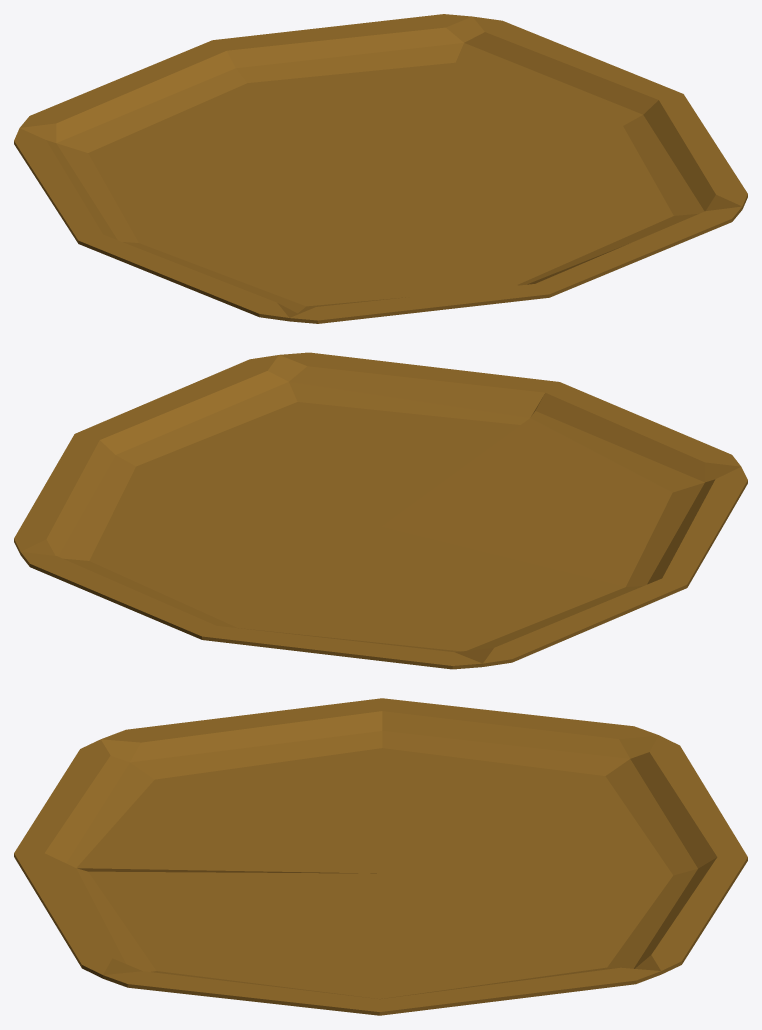
File: Plate.glb
3 views of the same model, one above another, from view 1: azimuth 30°, elevation 25°; view 2: azimuth 150°, elevation 25°; view 3: azimuth 270°, elevation 25° (orthographic). The views are drawn at different scales.
Visible parts, largest first — view 1: Plane; view 2: Plane; view 3: Plane.
Part boxes in pixels (x1,y1,x2,y2): Plane: (14,14,747,323); Plane: (14,352,747,669); Plane: (14,698,747,1015).
Size of the model in its own units: 0.3843 by 0.0126 by 0.3798.
